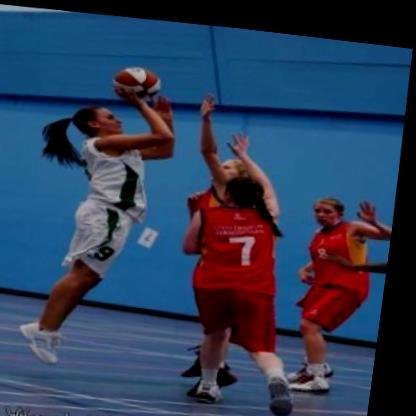basketball: (112, 58, 166, 100)
